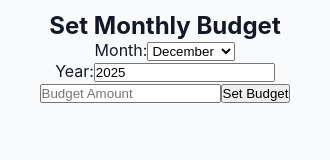
Test: BudgetForm Component › should display error message when userId is not provided
The image size is (330, 160).
Step 1. Type "5000" into the number field with placeholder "Budget Amount" → coordinates (130, 94), box x1=40 y1=84 x2=220 y2=103
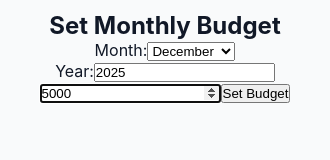
Step 2. Click the button "Set Budget" → coordinates (256, 94), box x1=220 y1=84 x2=290 y2=103
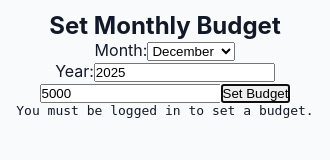
Expected: the text "You must be logged in to set a budget." is shown, x1=16 y1=103 x2=314 y2=118
